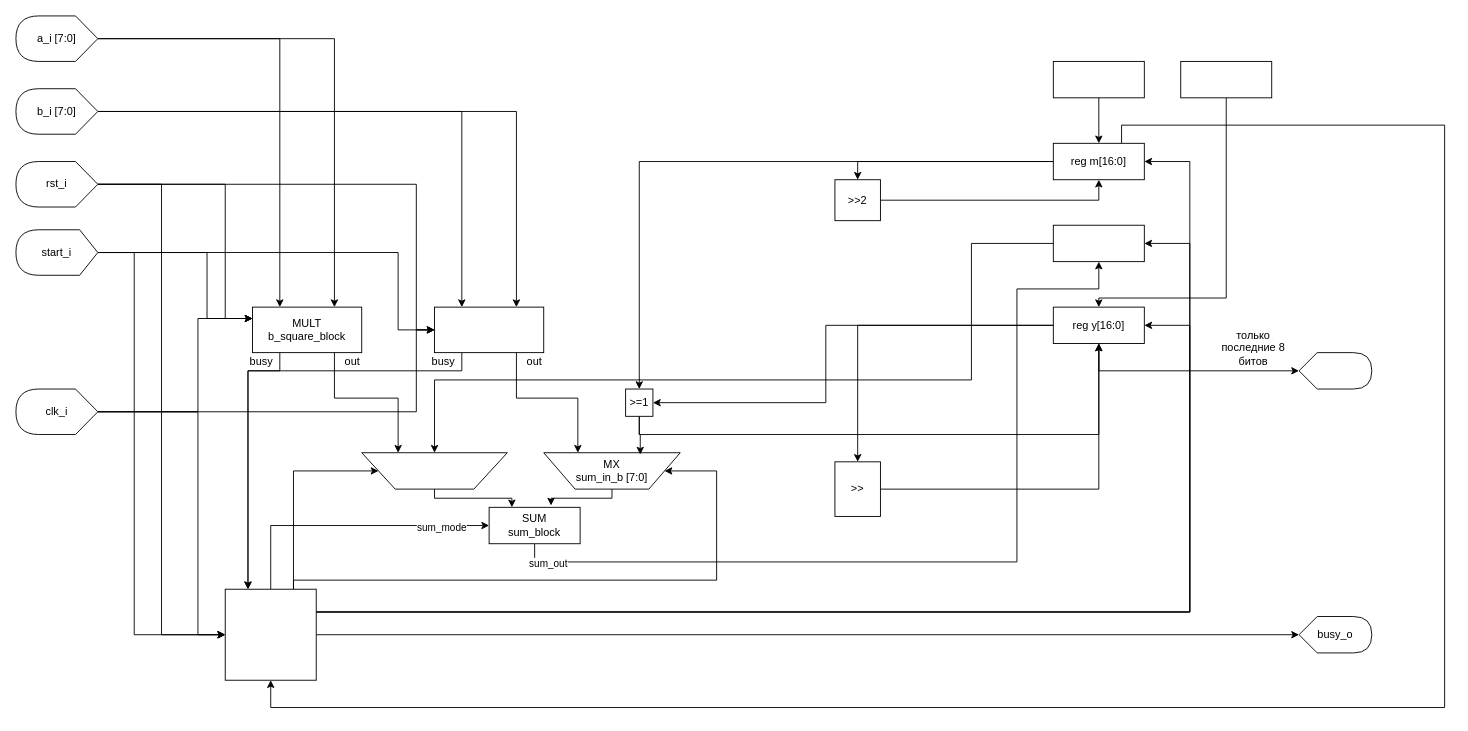
Image size: 1468x731. Some labels were removed from this diagram. Each missing label, with the centre of its shape:
Constant 0: (1226,79)
Constant 2^(N-2): (1098,79)
MULT a_square_block: (489,329)
MX sum_in_a [7:0]: (434,470)
reg x[16:0]: (1098,243)
y_o[8;0]: (1335,370)
УУ: (270,634)
